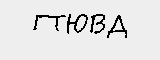В: (90, 12, 106, 37)
Г: (33, 11, 48, 33)
Д: (105, 14, 129, 39)
Т: (47, 12, 66, 34)
Ю: (65, 12, 88, 35)
